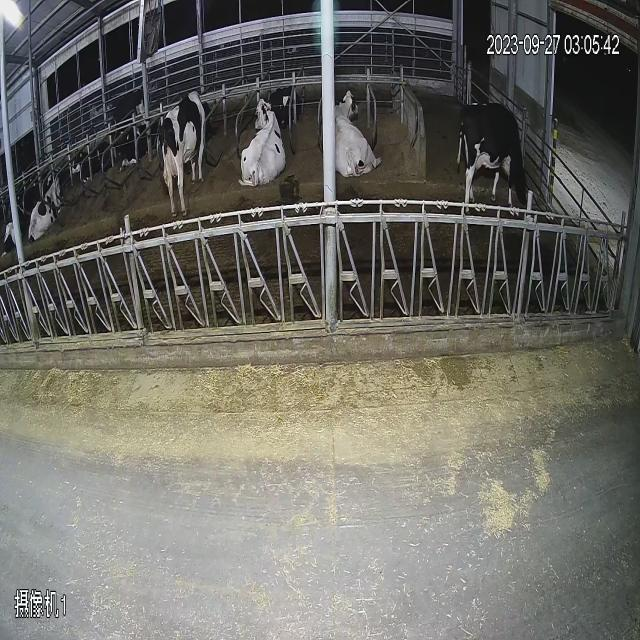lying down: (324, 88, 384, 196), (237, 86, 288, 194), (26, 174, 74, 252)
standing: (454, 92, 536, 206), (156, 94, 218, 216)
